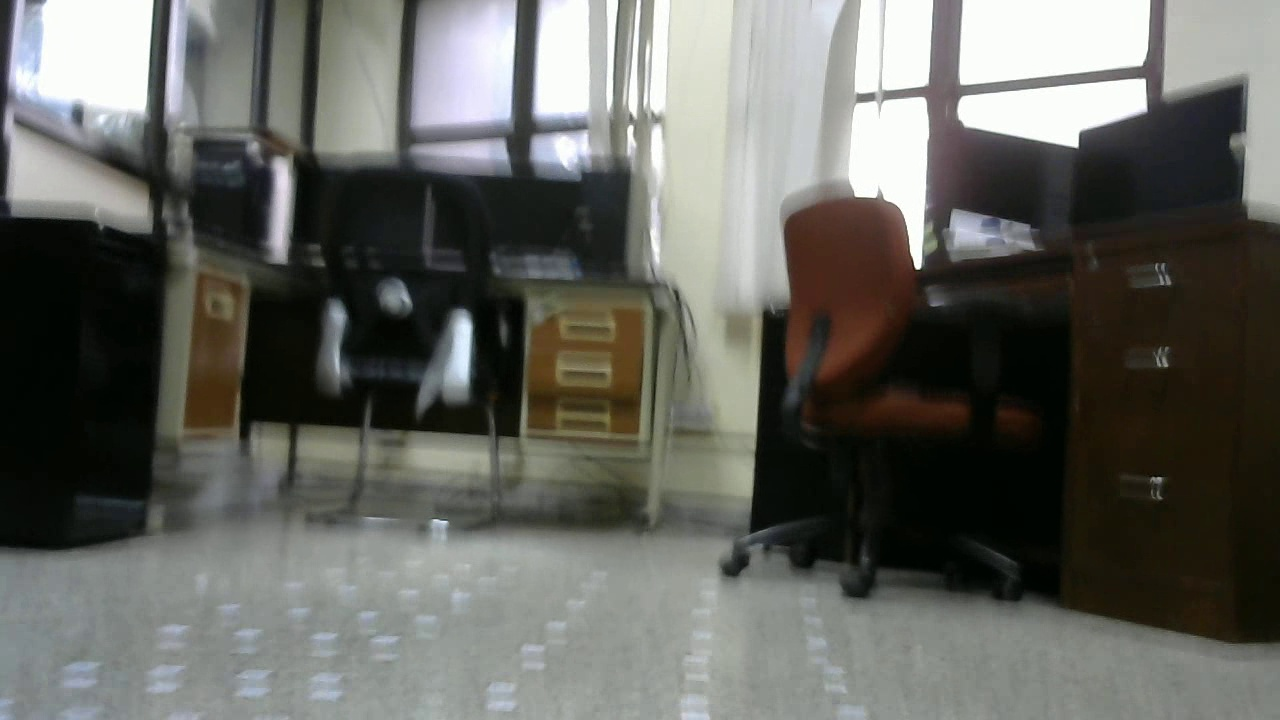chair: (715, 192, 1046, 598), (317, 172, 526, 535)
